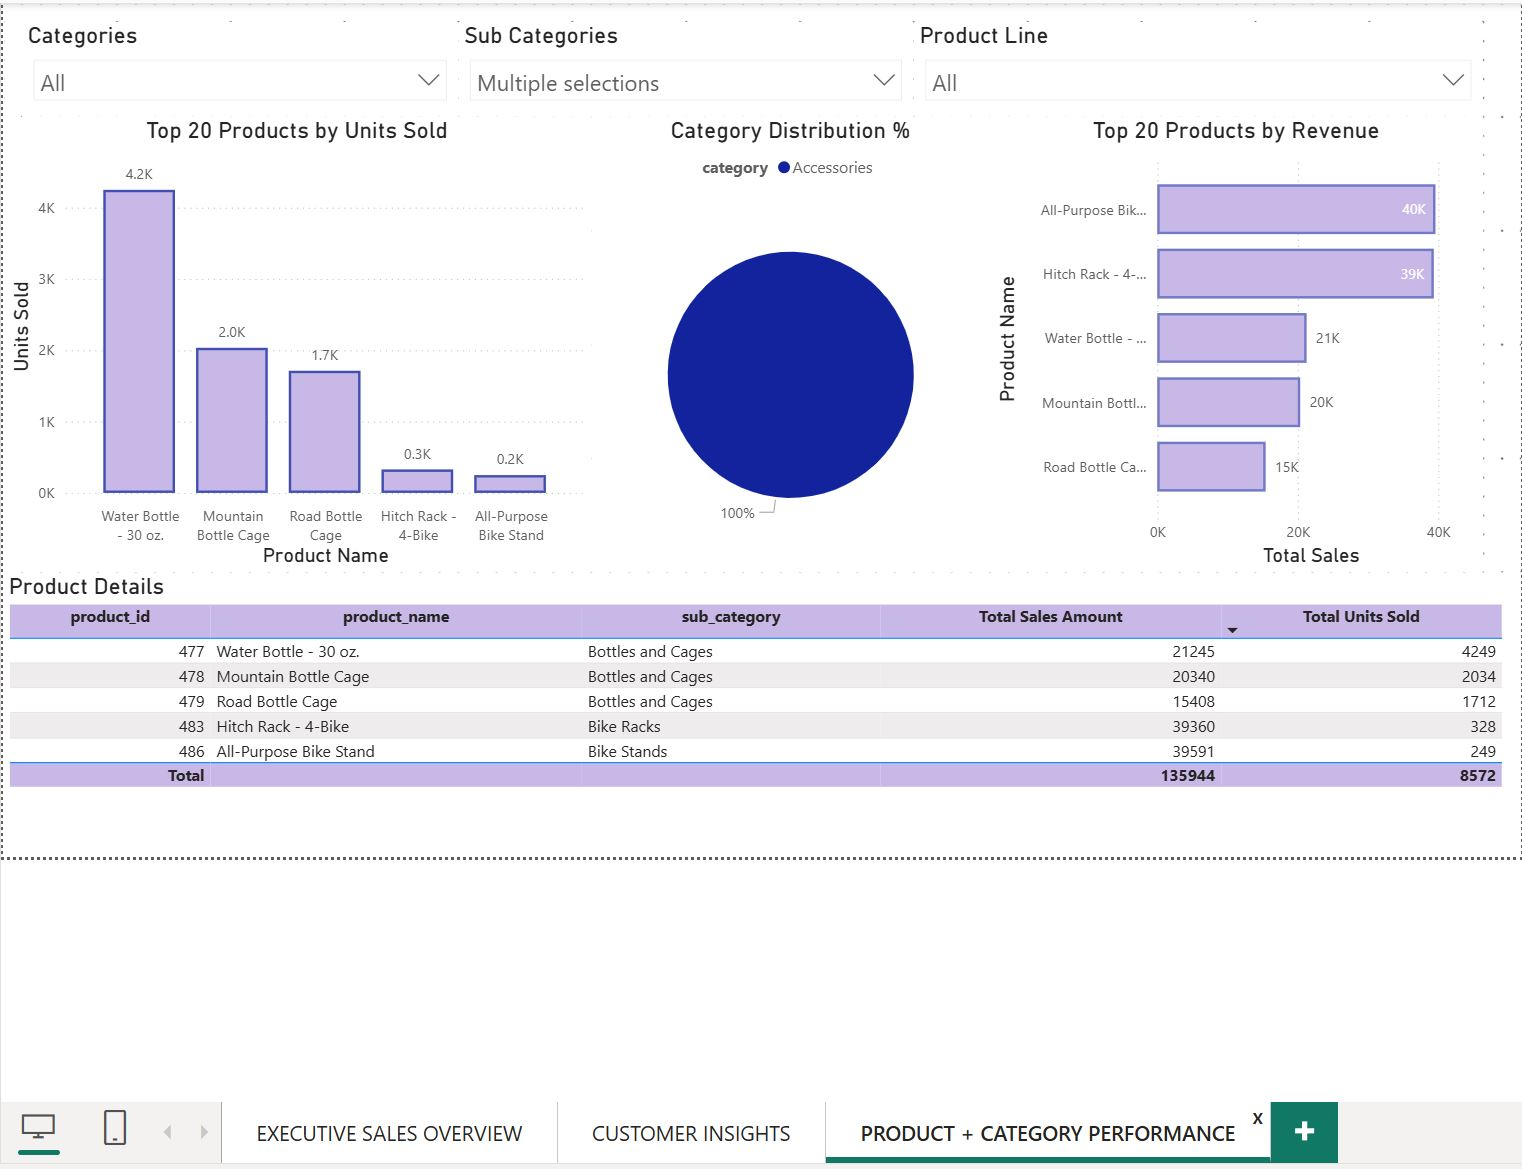

The page's visual inventory and layout, read from the dashboard file:
{"tool":"powerbi","page":{"name":"PRODUCT + CATEGORY PERFORMANCE","canvas":[1280,720],"ordinal":2},"visuals":[{"type":"slicer","title":"Categories","fields":{"Values":["gold_dim_products.category"]},"box":[16,16,368,80],"z":0},{"type":"slicer","title":"Sub Categories","fields":{"Values":["gold_dim_products.sub_category"]},"box":[384,16,384,80],"z":1000},{"type":"slicer","title":"Product Line","fields":{"Values":["gold_dim_products.product_line"]},"box":[768,16,480,80],"z":2000},{"type":"clusteredBarChart","title":"Top 20 Products by Revenue","fields":{"Category":["gold_dim_products.product_name"],"Y":["gold_fact_sales.Total Sales Amount"]},"box":[832,96,416,384],"z":3000},{"type":"clusteredColumnChart","title":"Top 20 Products by Units Sold","fields":{"Category":["gold_dim_products.product_name"],"Y":["gold_fact_sales.Total Units Sold"]},"box":[0,96,496,384],"z":4000},{"type":"pieChart","title":"Category Distribution %","fields":{"Category":["gold_dim_products.category"],"Y":["gold_dim_products.Category Revenue %"]},"box":[496,96,336,384],"z":4001},{"type":"tableEx","title":"Product Details","fields":{"Values":["gold_dim_products.product_id","gold_dim_products.product_name","gold_dim_products.sub_category","gold_fact_sales.Total Sales Amount","gold_fact_sales.Total Units Sold"]},"box":[0,480,1280,240],"z":4002}]}

Visuals, with their boxes on the page's 1280x720 design canvas (x1, y1, x2, y2). These are canvas units, not pixel positions in the 1522x1169 screenshot, which may show the page scaled, cropped or inside an application window:
"Categories" slicer: select_region(16, 16, 384, 96)
"Sub Categories" slicer: select_region(384, 16, 768, 96)
"Product Line" slicer: select_region(768, 16, 1248, 96)
"Top 20 Products by Revenue" clusteredBarChart: select_region(832, 96, 1248, 480)
"Top 20 Products by Units Sold" clusteredColumnChart: select_region(0, 96, 496, 480)
"Category Distribution %" pieChart: select_region(496, 96, 832, 480)
"Product Details" tableEx: select_region(0, 480, 1280, 720)
